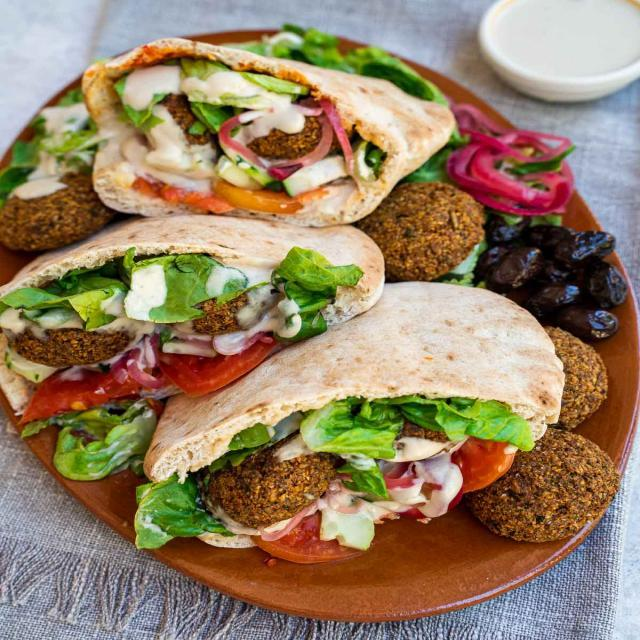flafel: (480, 425, 610, 548), (358, 180, 488, 284)
